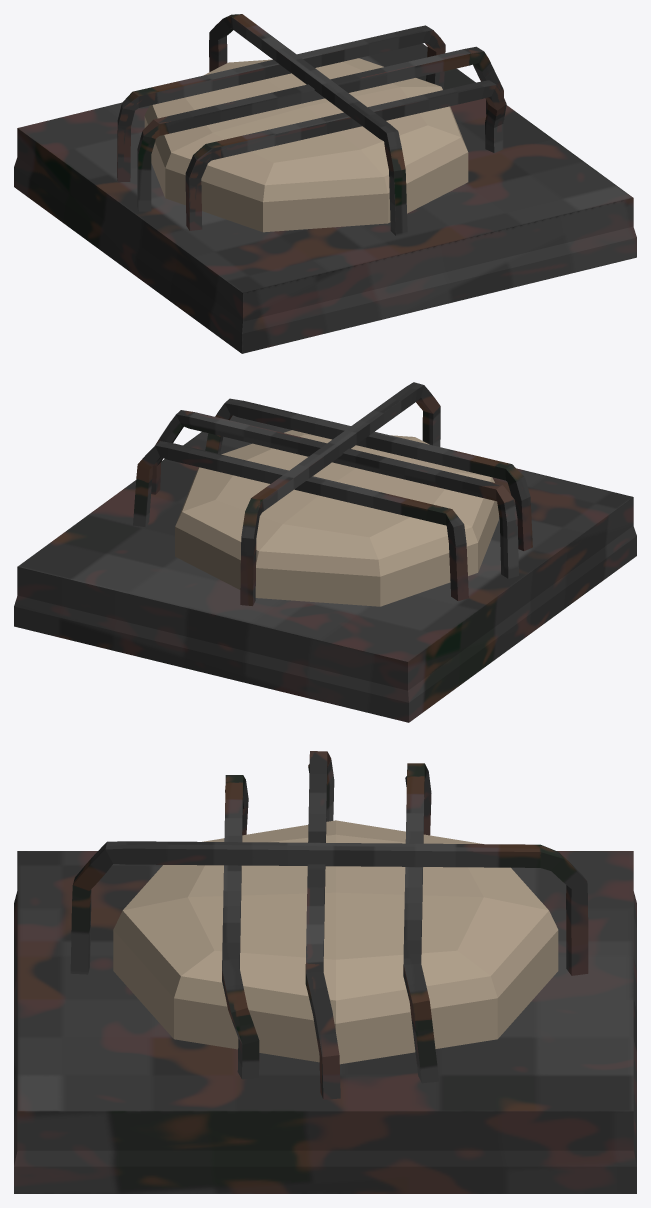
File: light_ve_sklepe.fbx
3 renders of one model, top to bottom at view 1: azimuth 30°, elevation 25°; view 2: azimuth 150°, elevation 25°; view 3: azimuth 270°, elevation 25°, orthographic. The views are drawn at different scales.
Parts seen in each view (by area): view 1: svetlo ve sklepe; view 2: svetlo ve sklepe; view 3: svetlo ve sklepe.
Part boxes in pixels (x1,y1,x2,y2): svetlo ve sklepe: (14, 14, 636, 353); svetlo ve sklepe: (14, 382, 636, 722); svetlo ve sklepe: (14, 751, 636, 1193).
Bounding box in the file's own units: 66.64 × 24.62 × 66.64.
